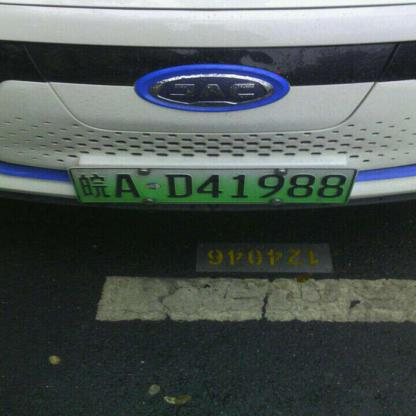lp: (70, 168, 355, 202)
